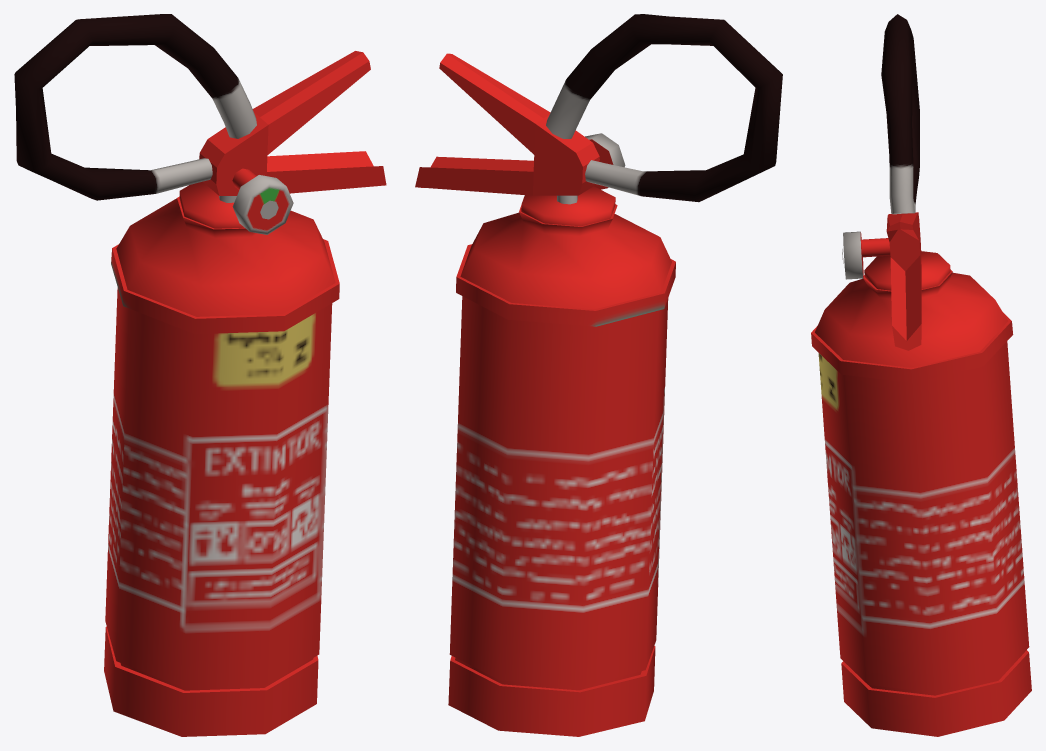
The model's file is ExtintorCinema.fbx.
3 views of the same model, side by side, from view 1: azimuth 30°, elevation 25°; view 2: azimuth 150°, elevation 25°; view 3: azimuth 270°, elevation 25° (orthographic). The views are drawn at different scales.
Visible parts, largest first — view 1: ExtintorCinema; view 2: ExtintorCinema; view 3: ExtintorCinema.
Boxes of the visible parts, left/top/right/bottom form: ExtintorCinema: left=14, top=14, right=386, bottom=736; ExtintorCinema: left=415, top=14, right=782, bottom=736; ExtintorCinema: left=811, top=14, right=1031, bottom=736.
Size of the model in its own units: 45.59 by 86.02 by 27.65.
